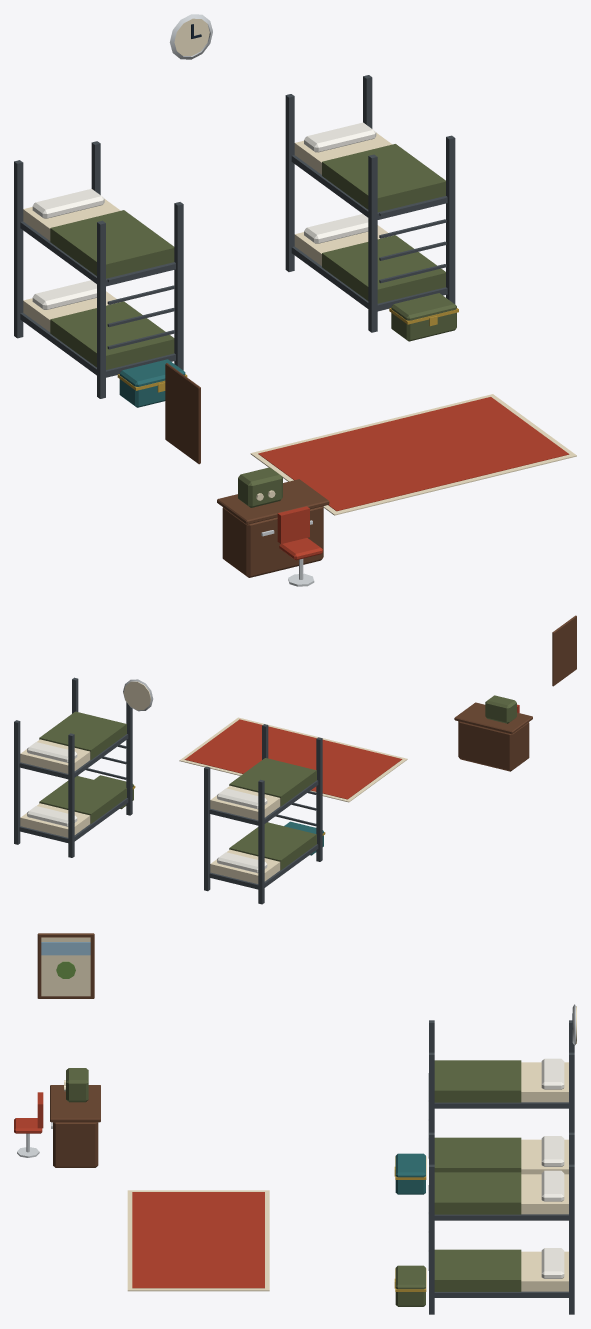
File: Room_Quarters_L1.fbx
The picture shows the model from 3 angles, top to bottom: view 1: azimuth 30°, elevation 25°; view 2: azimuth 150°, elevation 25°; view 3: azimuth 270°, elevation 25°; orthographic projection. The views are drawn at different scales.
Visible parts, largest first — view 1: Decor, Desk1, Footlocker2, Footlocker1, Bunk3, Bunk1, Bunk4, Bunk2; view 2: Decor, Desk1, Bunk1, Bunk4, Bunk2, Bunk3; view 3: Decor, Desk1, Footlocker2, Footlocker1, Bunk2, Bunk4, Bunk3.
Part boxes in pixels (x1,y1,x2,y2): Decor: (14,14,576,586); Desk1: (222,506,323,577); Footlocker2: (391,293,456,341); Footlocker1: (119,359,185,407); Bunk3: (291,246,447,311); Bunk1: (20,313,175,377); Bunk4: (291,155,447,219); Bunk2: (20,221,175,286); Decor: (14,615,576,904); Desk1: (458,721,529,771); Bunk1: (209,844,318,889); Bunk4: (19,734,128,779); Bunk2: (209,780,318,825); Bunk3: (19,798,128,842); Decor: (14,933,576,1314); Desk1: (53,1122,98,1167); Footlocker2: (395,1265,425,1306); Footlocker1: (395,1153,425,1194); Bunk2: (434,1102,568,1108); Bunk4: (434,1214,568,1220); Bunk3: (434,1291,568,1297).
Size of the model in its own units: 25.15 by 13.72 by 29.72.
